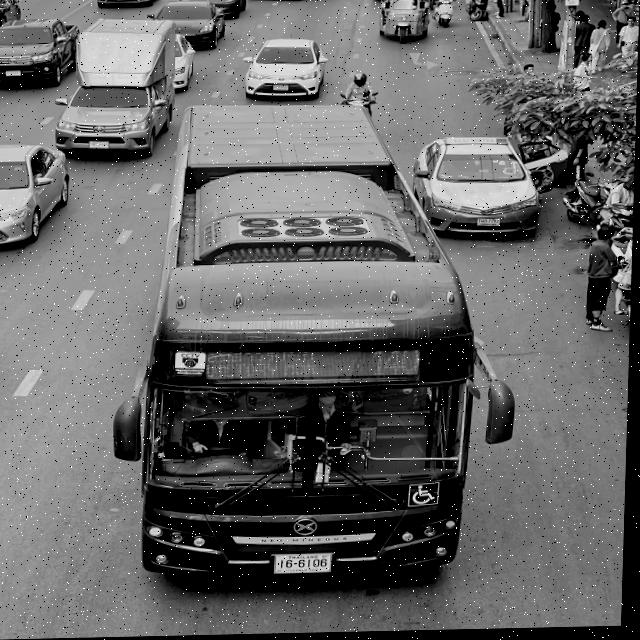Bus Line Number: (367, 347, 431, 381)
Bus Side Number: (412, 508, 466, 520)
Destination Sign: (206, 348, 326, 384)
TSB-Bus: (118, 105, 483, 582)
